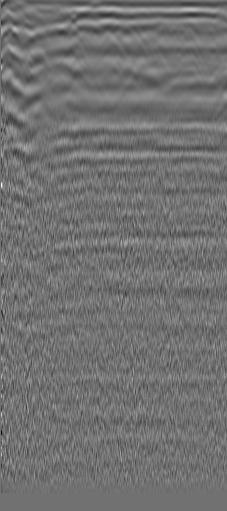가스: (214, 131, 225, 156)
오수: (27, 25, 47, 45)
우수: (177, 20, 197, 40)
